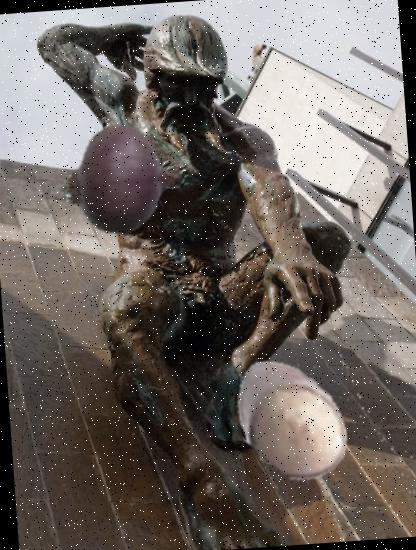Hazelnut: (216, 346, 363, 493)
Onion: (44, 108, 186, 252)
